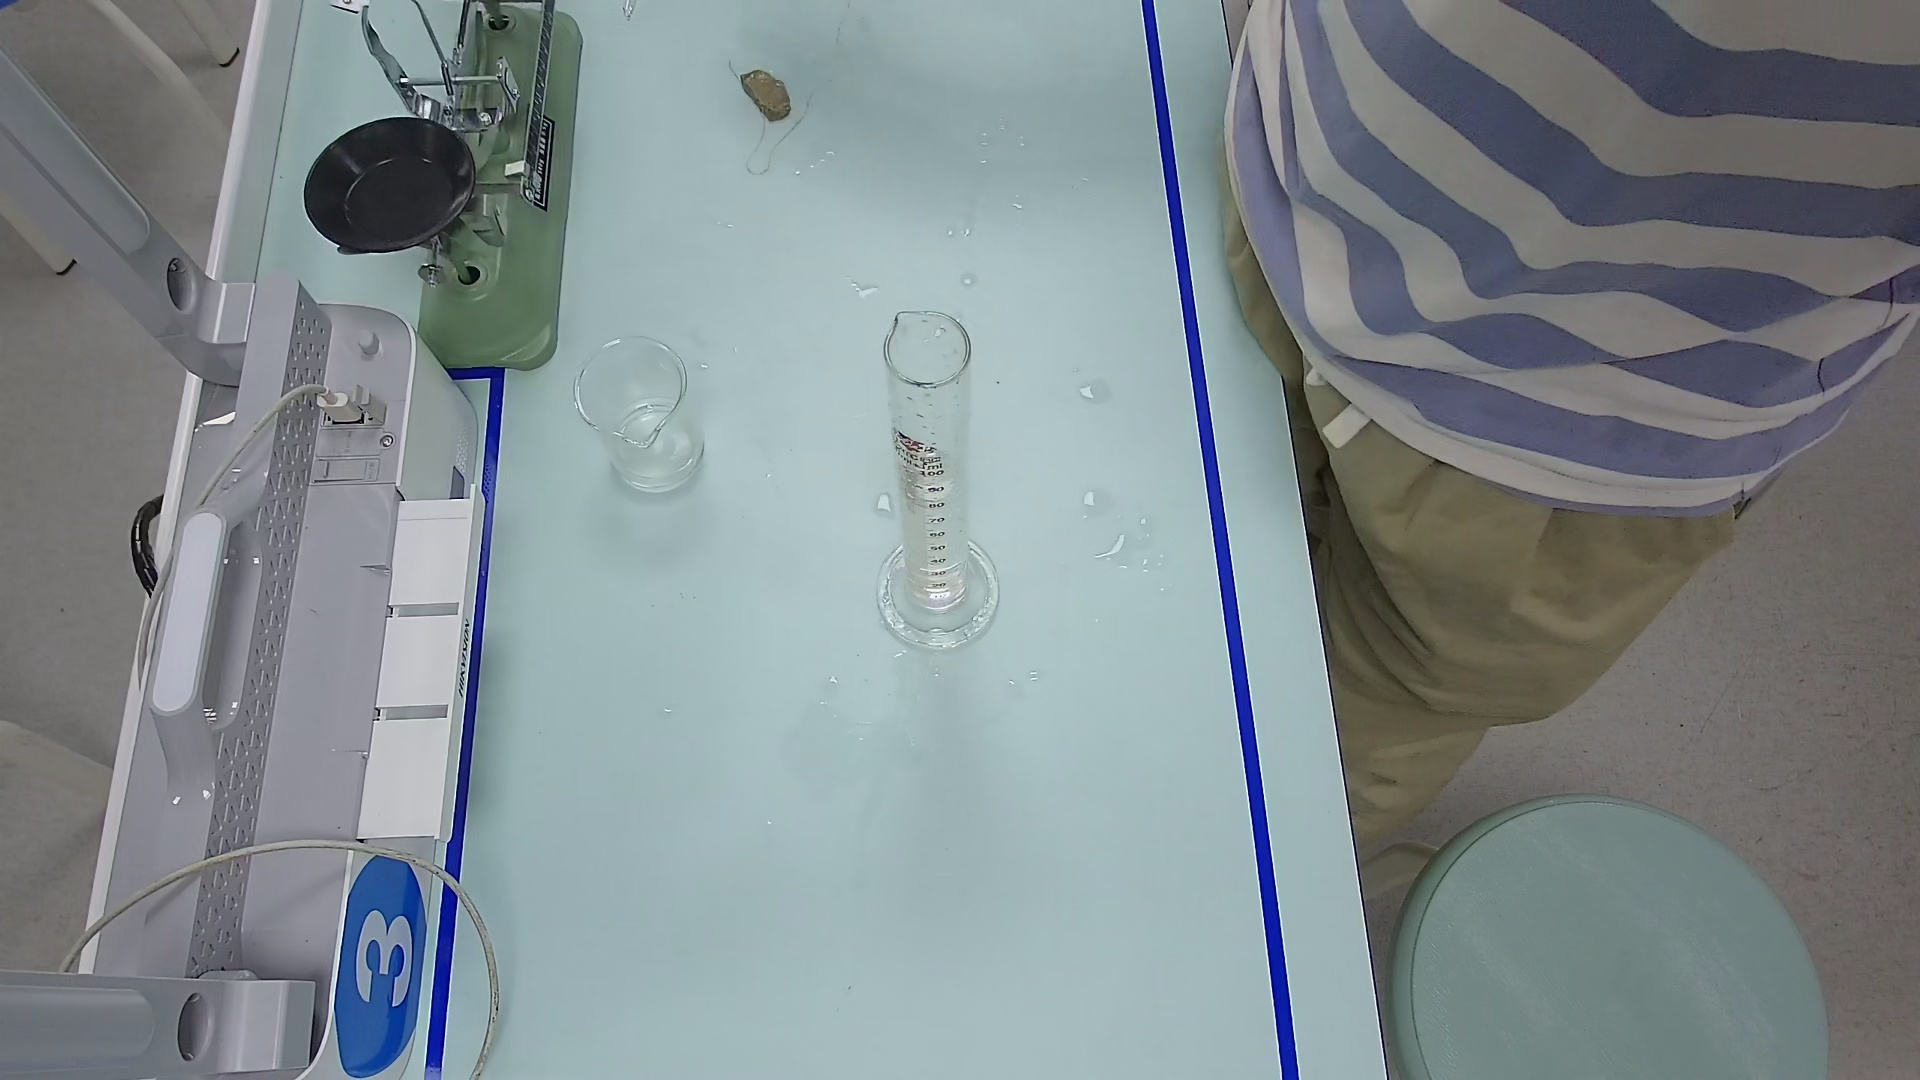ao: (901, 454, 969, 505)
bei: (572, 331, 704, 487)
liangdi: (878, 547, 1006, 653)
liangtong: (862, 307, 1000, 665)
shi: (742, 63, 793, 123)
tuo: (295, 113, 476, 262)
